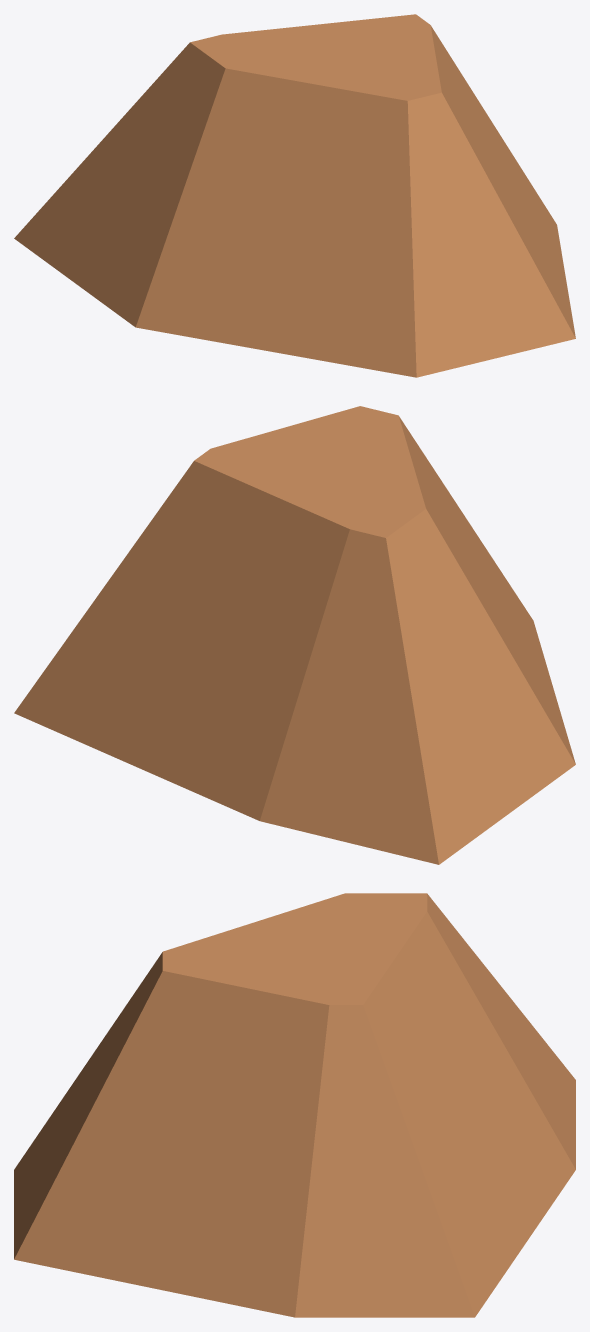
Rendered from proto_sandstone_small.glb.
The picture shows the model from 3 angles, top to bottom: view 1: azimuth 30°, elevation 25°; view 2: azimuth 150°, elevation 25°; view 3: azimuth 270°, elevation 25°; orthographic projection. The views are drawn at different scales.
Parts seen in each view (by area): view 1: stone_smallB; view 2: stone_smallB; view 3: stone_smallB.
Boxes of the visible parts, x1=… form: stone_smallB: x1=14, y1=14, x2=575, y2=377; stone_smallB: x1=14, y1=406, x2=575, y2=864; stone_smallB: x1=14, y1=893, x2=575, y2=1317.
Bounding box in the file's own units: 1.63 × 0.8 × 1.63.
